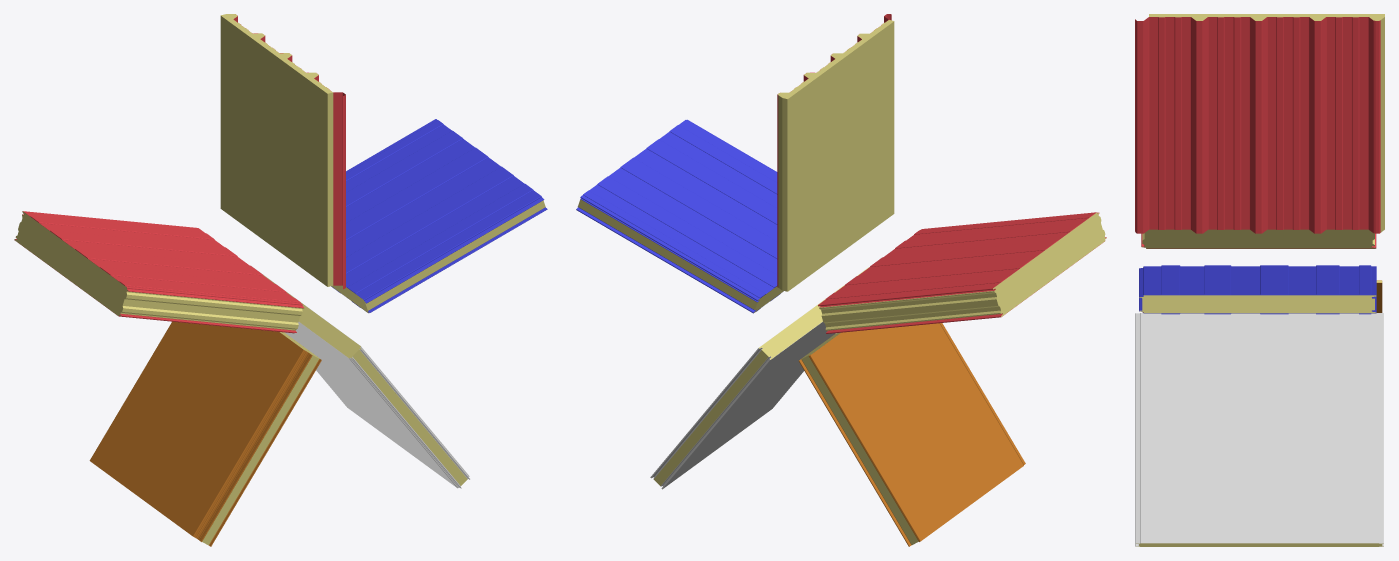
File: product.glb
3 renders of one model, left to right at view 1: azimuth 30°, elevation 25°; view 2: azimuth 150°, elevation 25°; view 3: azimuth 270°, elevation 25°, orthographic. The views are drawn at different scales.
Parts seen in each view (by area): view 1: secretfix; view 2: secretfix; view 3: secretfix.
Part boxes in pixels (x1=…): secretfix: x1=14, y1=14, x2=547, y2=546; secretfix: x1=576, y1=14, x2=1106, y2=546; secretfix: x1=1135, y1=14, x2=1384, y2=546.
Size of the model in its own units: 2.31 by 2.19 by 1.06.
